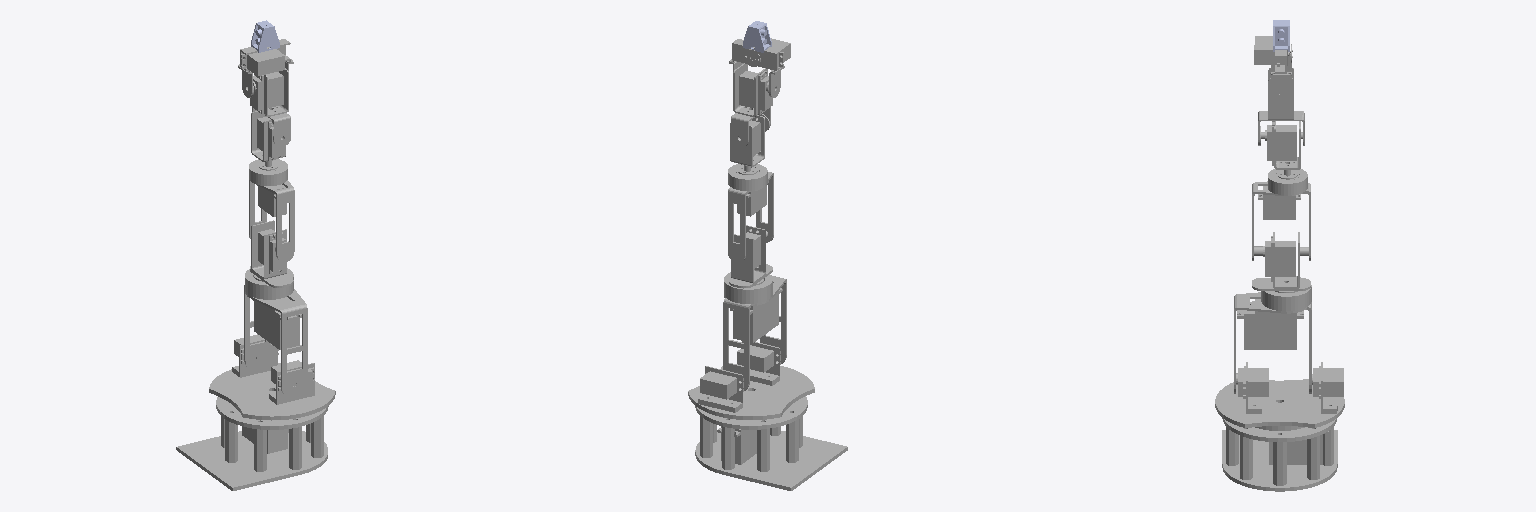
URDF robot description (robot):
<?xml version="1.0"?>
<robot>
  <link
    name="link0">
    <inertial>
      <origin
        xyz="0.093366 0.03803 0.065977"
        rpy="0 0 0" />
      <mass
        value="0.40583" />
      <inertia
        ixx="0.00082976"
        ixy="8.1234E-05"
        ixz="-1.1485E-05"
        iyy="0.0010372"
        iyz="2.8245E-06"
        izz="0.00086815" />
    </inertial>
    <visual>
      <origin
        xyz="0 0 0"
        rpy="0 0 0" />
      <geometry>
        <mesh
          filename="package://cyton_description/meshes/link0.STL" />
      </geometry>
      <material
        name="">
        <color
          rgba="0.75294 0.75294 0.75294 1" />
      </material>
    </visual>
    <collision>
      <origin
        xyz="0 0 0"
        rpy="0 0 0" />
      <geometry>
        <mesh
          filename="package://cyton_description/meshes/link0.STL" />
      </geometry>
    </collision>
  </link>
	<gazebo reference="link0">
		<material value="Gazebo/BlueGlow"/>
		<mu1>100</mu1>
		<mu2>100</mu2>
		<kp>100000000000</kp>
		<kd>1000000000</kd>

		<turnGravityOff>false</turnGravityOff> 
	</gazebo>
  <link
    name="link1">
    <inertial>
      <origin
        xyz="-0.0045279 0.015309 0.0058769"
        rpy="0 0 0" />
      <mass
        value="0.17897" />
      <inertia
        ixx="0.00040944"
        ixy="-1.2113E-05"
        ixz="-6.3351E-06"
        iyy="0.00049769"
        iyz="1.5436E-05"
        izz="0.00017854" />
    </inertial>
    <visual>
      <origin
        xyz="0 0 0"
        rpy="0 0 0" />
      <geometry>
        <mesh
          filename="package://cyton_description/meshes/link1.STL" />
      </geometry>
      <material
        name="">
        <color
          rgba="0.75294 0.75294 0.75294 1" />
      </material>
    </visual>
    <collision>
      <origin
        xyz="0 0 0"
        rpy="0 0 0" />
      <geometry>
        <mesh
          filename="package://cyton_description/meshes/link1.STL" />
      </geometry>
    </collision>
  </link>
	<gazebo reference="link1">
		<material value="Gazebo/BlueGlow"/>
		<mu1>100</mu1>
		<mu2>100</mu2>
		<kp>100000000000</kp>
		<kd>1000000000</kd>

		<turnGravityOff>false</turnGravityOff> 
	</gazebo>
  <joint
    name="shoulder_base"
    type="revolute">
    <origin
      xyz="0.099 -0.071 0.0845"
      rpy="1.5708 -3.382E-20 -3.141" />
    <parent
      link="link0" />
    <child
      link="link1" />
    <axis
      xyz="0 -1 0" />
    <limit
      lower="-1.5708"
      upper="1.5708"
      effort="2.42"
      velocity="7.48" />
	<dynamics fricction="0" damping="0" />
  </joint>
 <gazebo reference="shoulder_base">
    <erp>0.1</erp>
    <stopKd value="100000000.0" />
    <stopKp value="100000000.0" />
    <fudgeFactor value="0.5" />
 </gazebo>
  <link
    name="link2">
    <inertial>
      <origin
        xyz="-0.0065594 0.081209 -2.1283E-10"
        rpy="0 0 0" />
      <mass
        value="0.17025" />
      <inertia
        ixx="0.00016239"
        ixy="2.4141E-05"
        ixz="1.9315E-12"
        iyy="0.00012941"
        iyz="-3.7242E-13"
        izz="0.00024238" />
    </inertial>
    <visual>
      <origin
        xyz="0 0 0"
        rpy="0 0 0" />
      <geometry>
        <mesh
          filename="package://cyton_description/meshes/link2.STL" />
      </geometry>
      <material
        name="">
        <color
          rgba="0.75294 0.75294 0.75294 1" />
      </material>
    </visual>
    <collision>
      <origin
        xyz="0 0 0"
        rpy="0 0 0" />
      <geometry>
        <mesh
          filename="package://cyton_description/meshes/link2.STL" />
      </geometry>
    </collision>
  </link>
	<gazebo reference="link2">
		<material value="Gazebo/BlueGlow"/>
		<mu1>100</mu1>
		<mu2>100</mu2>
		<kp>100000000000</kp>
		<kd>1000000000</kd>

		<turnGravityOff>false</turnGravityOff> 
	</gazebo>
  <joint
    name="shoulder_pitch"
    type="revolute">
    <origin
      xyz="0 0.0355 0"
      rpy="3.1416 -1.568 3.1416" />
    <parent
      link="link1" />
    <child
      link="link2" />
    <axis
      xyz="1 0 0" />
    <limit
      lower="-1.4835"
      upper="1.4835"
      effort="5.88"
      velocity="6.16" />
	<dynamics fricction="0" damping="0" />

  </joint>
 <gazebo reference="shoulder_pitch">
    <erp>0.8</erp>
   <cfm>0.8</cfm>
    <stopKd value="10000000000.0" />
    <stopKp value="10000000000.0" />
    <fudgeFactor value="0" />
    <provideFeedback value="true"/>
 </gazebo>
  <link
    name="link3">
    <inertial>
      <origin
        xyz="-0.0037056 0.037257 4.318E-06"
        rpy="0 0 0" />
      <mass
        value="0.074076" />
      <inertia
        ixx="4.9764E-05"
        ixy="-4.2562E-06"
        ixz="1.1853E-09"
        iyy="1.9187E-05"
        iyz="-5.6798E-09"
        izz="5.8759E-05" />
    </inertial>
    <visual>
      <origin
        xyz="0 0 0"
        rpy="0 0 0" />
      <geometry>
        <mesh
          filename="package://cyton_description/meshes/link3.STL" />
      </geometry>
      <material
        name="">
        <color
          rgba="0.75294 0.75294 0.75294 1" />
      </material>
    </visual>
    <collision>
      <origin
        xyz="0 0 0"
        rpy="0 0 0" />
      <geometry>
        <mesh
          filename="package://cyton_description/meshes/link3.STL" />
      </geometry>
    </collision>
  </link>
	<gazebo reference="link3">
		<material value="Gazebo/BlueGlow"/>
		<mu1>100</mu1>
		<mu2>100</mu2>
		<kp>100000000000</kp>
		<kd>1000000000</kd>
		<selfCollide>true</selfCollide>
		<turnGravityOff>false</turnGravityOff> 
	</gazebo>
  <joint
    name="shoulder_yaw"
    type="revolute">
    <origin
      xyz="0.008 0.1065 0"
      rpy="0 4.1059E-05 0" />
    <parent
      link="link2" />
    <child
      link="link3" />
    <axis
      xyz="0 -1 0" />
    <limit
      lower="-1.5708"
      upper="1.5708"
      effort="2.42"
      velocity="3.74" />
	<dynamics fricction="0" damping="0" />
  </joint>
 <gazebo reference="shoulder_yaw">
    <erp>0.1</erp>
    <stopKd value="100000000.0" />
    <stopKp value="100000000.0" />
    <fudgeFactor value="7.08" />
 </gazebo>
  <link
    name="link4">
    <inertial>
      <origin
        xyz="-0.00453034281205507 0.0720346348332056 -1.35437425163865E-09"
        rpy="0 0 0" />
      <mass
        value="0.0672668972309732" />
      <inertia
        ixx="4.67161199119564E-05"
        ixy="4.35195121344976E-06"
        ixz="2.6302026822635E-12"
        iyy="3.13979422559928E-05"
        iyz="-6.86584027007207E-13"
        izz="6.48051352457449E-05" />
    </inertial>
    <visual>
      <origin
        xyz="0 0 0"
        rpy="0 0 0" />
      <geometry>
        <mesh
          filename="package://cyton_description/meshes/link4.STL" />
      </geometry>
      <material
        name="">
        <color
          rgba="0.752941176470588 0.752941176470588 0.752941176470588 1" />
      </material>
    </visual>
    <collision>
      <origin
        xyz="0 0 0"
        rpy="0 0 0" />
      <geometry>
        <mesh
          filename="package://cyton_description/meshes/link4.STL" />
      </geometry>
    </collision>
  </link>
	<gazebo reference="link4">
		<material value="Gazebo/BlueGlow"/>
		<mu1>100</mu1>
		<mu2>100</mu2>
		<kp>100000000000</kp>
		<kd>1000000000</kd>
		<selfCollide>true</selfCollide>
		<turnGravityOff>false</turnGravityOff> 
	</gazebo>
  <joint
    name="elbow_pitch"
    type="revolute">
    <origin
      xyz="0 0.06745 0"
      rpy="0 -4.996E-14 0" />
    <parent
      link="link3" />
    <child
      link="link4" />
    <axis
      xyz="1 0 0" />
    <limit
      lower="-1.4835"
      upper="1.4835"
      effort="2.94"
      velocity="6.16" />
	<dynamics fricction="0" damping="0" />

  </joint>
 <gazebo reference="elbow_pitch">
    <erp>0.1</erp>
    <stopKd value="100000000.0" />
    <stopKp value="100000000.0" />
    <fudgeFactor value="0.5" />
 </gazebo>
  <link
    name="link5">
    <inertial>
      <origin
        xyz="0.00456829669603721 0.0474224526162388 -3.47375755178903E-06"
        rpy="0 0 0" />
      <mass
        value="0.051376442823963" />
      <inertia
        ixx="3.2737957509832E-05"
        ixy="3.31712748307281E-06"
        ixz="-1.90627017301039E-09"
        iyy="9.92504658091435E-06"
        iyz="-2.25609756305602E-09"
        izz="3.78510108258027E-05" />
    </inertial>
    <visual>
      <origin
        xyz="0 0 0"
        rpy="0 0 0" />
      <geometry>
        <mesh
          filename="package://cyton_description/meshes/link5.STL" />
      </geometry>
      <material
        name="">
        <color
          rgba="0.752941176470588 0.752941176470588 0.752941176470588 1" />
      </material>
    </visual>
    <collision>
      <origin
        xyz="0 0 0"
        rpy="0 0 0" />
      <geometry>
        <mesh
          filename="package://cyton_description/meshes/link5.STL" />
      </geometry>
    </collision>
  </link>
	<gazebo reference="link5">
		<material value="Gazebo/BlueGlow"/>
		<mu1>100</mu1>
		<mu2>100</mu2>
		<kp>100000000000</kp>
		<kd>1000000000</kd>
		<selfCollide>true</selfCollide>
		<turnGravityOff>false</turnGravityOff> 
	</gazebo>
  <joint
    name="wrist_roll"
    type="revolute">
    <origin
      xyz="0.0015 0.0875 0"
      rpy="3.1416 0.0004604 3.1416" />
    <parent
      link="link4" />
    <child
      link="link5" />
    <axis
      xyz="0 -1 0" />
    <limit
      lower="-1.5708"
      upper="1.5708"
      effort="0.54"
      velocity="5.8177" />
	<dynamics fricction="0" damping="0" />
  </joint>
 <gazebo reference="wrist_roll">
    <erp>0.1</erp>
    <stopKd value="100000000.0" />
    <stopKp value="100000000.0" />
    <fudgeFactor value="0.5" />
 </gazebo>
  <link
    name="link6">
    <inertial>
      <origin
        xyz="-0.0052229 0.050156 0.0077539"
        rpy="0 0 0" />
      <mass
        value="0.045233" />
      <inertia
        ixx="2.1686E-05"
        ixy="-1.8794E-06"
        ixz="-1.7894E-09"
        iyy="1.2099E-05"
        iyz="1.1437E-09"
        izz="2.358E-05" />
    </inertial>
    <visual>
      <origin
        xyz="0 0 0"
        rpy="0 0 0" />
      <geometry>
        <mesh
          filename="package://cyton_description/meshes/link6.STL" />
      </geometry>
      <material
        name="">
        <color
          rgba="0.75294 0.75294 0.75294 1" />
      </material>
    </visual>
    <collision>
      <origin
        xyz="0 0 0"
        rpy="0 0 0" />
      <geometry>
        <mesh
          filename="package://cyton_description/meshes/link6.STL" />
      </geometry>
    </collision>
  </link>
	<gazebo reference="link6">
		<material value="Gazebo/BlueGlow"/>
		<mu1>100</mu1>
		<mu2>100</mu2>
		<kp>100000000000</kp>
		<kd>1000000000</kd>
		<selfCollide>true</selfCollide>
		<turnGravityOff>false</turnGravityOff> 
	</gazebo>
  <joint
    name="wrist_yaw"
    type="revolute">
    <origin
      xyz="0 0.06995 0"
      rpy="0 1.5708 0" />
    <parent
      link="link5" />
    <child
      link="link6" />
    <axis
      xyz="0 0 -1" />
    <limit
      lower="-1.1345"
      upper="1.1345"
      effort="0.54"
      velocity="5.8177" />
	<dynamics fricction="0" damping="0" />
  </joint>
 <gazebo reference="wrist_yaw">
    <erp>0.1</erp>
    <stopKd value="100000000.0" />
    <stopKp value="100000000.0" />
    <fudgeFactor value="0.5" />
 </gazebo>
  <link
    name="link7">
    <inertial>
      <origin
        xyz="-0.016212 0.037635 0.009234"
        rpy="0 0 0" />
      <mass
        value="0.04349" />
      <inertia
        ixx="1.1991E-05"
        ixy="-9.3011E-07"
        ixz="-1.5295E-06"
        iyy="1.7894E-05"
        iyz="1.1506E-06"
        izz="1.6777E-05" />
    </inertial>
    <visual>
      <origin
        xyz="0 0 0"
        rpy="0 0 0" />
      <geometry>
        <mesh
          filename="package://cyton_description/meshes/link7.STL" />
      </geometry>
      <material
        name="">
        <color
          rgba="0.75294 0.75294 0.75294 1" />
      </material>
    </visual>
    <collision>
      <origin
        xyz="0 0 0"
        rpy="0 0 0" />
      <geometry>
        <mesh
          filename="package://cyton_description/meshes/link7.STL" />
      </geometry>
    </collision>
  </link>
	<gazebo reference="link7">
		<material value="Gazebo/BlueGlow"/>
		<mu1>100</mu1>
		<mu2>100</mu2>
		<kp>100000000000</kp>
		<kd>1000000000</kd>
		<selfCollide>true</selfCollide>
		<turnGravityOff>false</turnGravityOff> 
	</gazebo>
  <joint
    name="wrist_pitch"
    type="revolute">
    <origin
      xyz="0 0.06645 0.00775"
      rpy="0 -3.4333E-11 0" />
    <parent
      link="link6" />
    <child
      link="link7" />
    <axis
      xyz="-1 0 0" />
    <limit
      lower="-1.1781"
      upper="1.1781"
      effort="0.54"
      velocity="5.8177" />
	<dynamics fricction="0" damping="0" />
  </joint>
 <gazebo reference="wrist_pitch">
    <erp>0.1</erp>
    <stopKd value="100000000.0" />
    <stopKp value="100000000.0" />
    <fudgeFactor value="0.5" />
 </gazebo>
  <link
    name="claw1">
    <inertial>
      <origin
        xyz="0.0052069 0.010995 1.4043E-05"
        rpy="0 0 0" />
      <mass
        value="0.0052092" />
      <inertia
        ixx="5.9848E-07"
        ixy="-4.9952E-08"
        ixz="-3.3858E-10"
        iyy="2.5868E-07"
        iyz="-1.3472E-10"
        izz="4.7294E-07" />
    </inertial>
    <visual>
      <origin
        xyz="0 0 0"
        rpy="0 0 0" />
      <geometry>
        <mesh
          filename="package://cyton_description/meshes/claw1.STL" />
      </geometry>
      <material
        name="">
        <color
          rgba="0.79216 0.81961 0.93333 1" />
      </material>
    </visual>
    <collision>
      <origin
        xyz="0 0 0"
        rpy="0 0 0" />
      <geometry>
        <mesh
          filename="package://cyton_description/meshes/claw1.STL" />
      </geometry>
    </collision>
  </link>
	<gazebo reference="claw1">
		<material value="Gazebo/BlueGlow"/>
		<mu1>100</mu1>
		<mu2>100</mu2>
		<kp>100000000000</kp>
		<kd>1000000000</kd>
		<selfCollide>true</selfCollide>
		<turnGravityOff>false</turnGravityOff> 
	</gazebo>
  <joint
    name="claw_right"
    type="prismatic">
    <origin
      xyz="-0.0091826 0.0555 0"
      rpy="0 0.0026969 0" />
    <parent
      link="link7" />
    <child
      link="claw1" />
    <axis
      xyz="1 0 0.0026969" />
    <limit
      lower="0"
      upper="0.017"
      effort="5.5"
      velocity="0.017" />
	<dynamics fricction="0" damping="0" />
  </joint>
  <link
    name="claw2">
    <inertial>
      <origin
        xyz="0.0053418 0.010995 -8.0075E-14"
        rpy="0 0 0" />
      <mass
        value="0.0052092" />
      <inertia
        ixx="5.9848E-07"
        ixy="-4.9952E-08"
        ixz="5.8306E-20"
        iyy="2.5868E-07"
        iyz="2.3368E-20"
        izz="4.7294E-07" />
    </inertial>
    <visual>
      <origin
        xyz="0 0 0"
        rpy="0 0 0" />
      <geometry>
        <mesh
          filename="package://cyton_description/meshes/claw2.STL" />
      </geometry>
      <material
        name="">
        <color
          rgba="0.79216 0.81961 0.93333 1" />
      </material>
    </visual>
    <collision>
      <origin
        xyz="0 0 0"
        rpy="0 0 0" />
      <geometry>
        <mesh
          filename="package://cyton_description/meshes/claw2.STL" />
      </geometry>
    </collision>
  </link>
	<gazebo reference="claw2">
		<material value="Gazebo/BlueGlow"/>
		<mu1>100</mu1>
		<mu2>100</mu2>
		<kp>100000000000</kp>
		<kd>1000000000</kd>
		<selfCollide>true</selfCollide>
		<turnGravityOff>false</turnGravityOff> 
	</gazebo>
  <joint
    name="claw_left"
    type="prismatic">
    <origin
      xyz="-0.0091826 0.0555 0"
      rpy="3.1416 4.6484E-13 3.1416" />
    <parent
      link="link7" />
    <child
      link="claw2" />
    <axis
      xyz="-1 0 0" />
    <limit
      lower="-0.017"
      upper="0"
      effort="5.5"
      velocity="0.017" />
	<dynamics fricction="0" damping="0" />
  </joint>

<gazebo>
  <plugin name="gazebo_ros_control" filename="libgazebo_ros_control.so">

  </plugin>
</gazebo>

  <transmission name="shoulder_base_trans">
    <type>transmission_interface/SimpleTransmission</type>
    <joint name="shoulder_base"/>
    <actuator name="shoulder_base_motor">
      <hardwareInterface>EffortJointInterface</hardwareInterface>
      <mechanicalReduction>1</mechanicalReduction>
    </actuator>
  </transmission>
  
  <transmission name="shoulder_pitch_trans">
    <type>transmission_interface/SimpleTransmission</type>
    <joint name="shoulder_pitch"/>
    <actuator name="shoulder_pitch_motor">
      <hardwareInterface>EffortJointInterface</hardwareInterface>
      <mechanicalReduction>1</mechanicalReduction>
    </actuator>
  </transmission>
  
  <transmission name="shoulder_yaw_trans">
    <type>transmission_interface/SimpleTransmission</type>
    <joint name="shoulder_yaw"/>
    <actuator name="shoulder_yaw_motor">
      <hardwareInterface>EffortJointInterface</hardwareInterface>
      <mechanicalReduction>1</mechanicalReduction>
    </actuator>
  </transmission>
  
  <transmission name="elbow_pitch_trans">
    <type>transmission_interface/SimpleTransmission</type>
    <joint name="elbow_pitch"/>
    <actuator name="elbow_pitch_motor">
      <hardwareInterface>EffortJointInterface</hardwareInterface>
      <mechanicalReduction>1</mechanicalReduction>
    </actuator>
  </transmission>
  <transmission name="wrist_roll_trans">
    <type>transmission_interface/SimpleTransmission</type>
    <joint name="wrist_roll"/>
    <actuator name="wrist_roll_motor">
      <hardwareInterface>EffortJointInterface</hardwareInterface>
      <mechanicalReduction>1</mechanicalReduction>
    </actuator>
  </transmission>
  <transmission name="wrist_yaw_trans">
    <type>transmission_interface/SimpleTransmission</type>
    <joint name="wrist_yaw"/>
    <actuator name="wrist_yaw_motor">
      <hardwareInterface>EffortJointInterface</hardwareInterface>
      <mechanicalReduction>1</mechanicalReduction>
    </actuator>
  </transmission>
  <transmission name="wrist_pitch_trans">
    <type>transmission_interface/SimpleTransmission</type>
    <joint name="wrist_pitch"/>
    <actuator name="wrist_pitch_motor">
      <hardwareInterface>EffortJointInterface</hardwareInterface>
      <mechanicalReduction>1</mechanicalReduction>
    </actuator>
  </transmission>
  <transmission name="claw_left_trans">
    <type>transmission_interface/SimpleTransmission</type>
    <joint name="claw_left"/>
    <actuator name="claw_left_motor">
      <hardwareInterface>EffortJointInterface</hardwareInterface>
      <mechanicalReduction>1</mechanicalReduction>
    </actuator>
  </transmission>
  <transmission name="claw_right_trans">
    <type>transmission_interface/SimpleTransmission</type>
    <joint name="claw_right"/>
    <actuator name="claw_right_motor">
      <hardwareInterface>EffortJointInterface</hardwareInterface>
      <mechanicalReduction>1</mechanicalReduction>
    </actuator>
  </transmission>
</robot>

--- Render facts (derived) ---
3 views of the same robot in one strip: view 1: azimuth 30°, elevation 25°; view 2: azimuth 150°, elevation 25°; view 3: azimuth 270°, elevation 25° (orthographic).
Model robot with 10 links and 9 joints (7 revolute, 2 prismatic), rooted at link0, posed all joints at 0.
Links seen in each view (by area): view 1: link0, link2, link1, link4, link6, link3, link7, link5; view 2: link0, link1, link2, link4, link6, link3, link7, link5; view 3: link0, link1, link2, link3, link4, link5, link7, link6.
Boxes of the visible links, x1=… form: link0: x1=176, y1=397, x2=328, y2=490; link2: x1=244, y1=268, x2=307, y2=397; link1: x1=209, y1=334, x2=335, y2=420; link4: x1=249, y1=159, x2=294, y2=262; link6: x1=247, y1=68, x2=290, y2=146; link3: x1=250, y1=220, x2=293, y2=287; link7: x1=238, y1=39, x2=293, y2=97; link5: x1=251, y1=111, x2=285, y2=170; link0: x1=695, y1=396, x2=847, y2=490; link1: x1=688, y1=341, x2=814, y2=419; link2: x1=723, y1=272, x2=786, y2=390; link4: x1=728, y1=164, x2=773, y2=262; link6: x1=731, y1=63, x2=775, y2=147; link3: x1=729, y1=225, x2=772, y2=288; link7: x1=729, y1=38, x2=790, y2=97; link5: x1=730, y1=114, x2=769, y2=175; link0: x1=1222, y1=418, x2=1337, y2=491; link1: x1=1215, y1=362, x2=1344, y2=427; link2: x1=1234, y1=277, x2=1311, y2=393; link3: x1=1252, y1=232, x2=1310, y2=292; link4: x1=1252, y1=169, x2=1310, y2=260; link5: x1=1260, y1=121, x2=1302, y2=179; link7: x1=1254, y1=36, x2=1292, y2=101; link6: x1=1258, y1=68, x2=1304, y2=145.
Bounding box of the posed robot: 0.1699 × 0.1595 × 0.6004 m (x, y, z).
Meshes: 10 distinct files referenced, 10 mesh visuals loaded (10 binary STL).